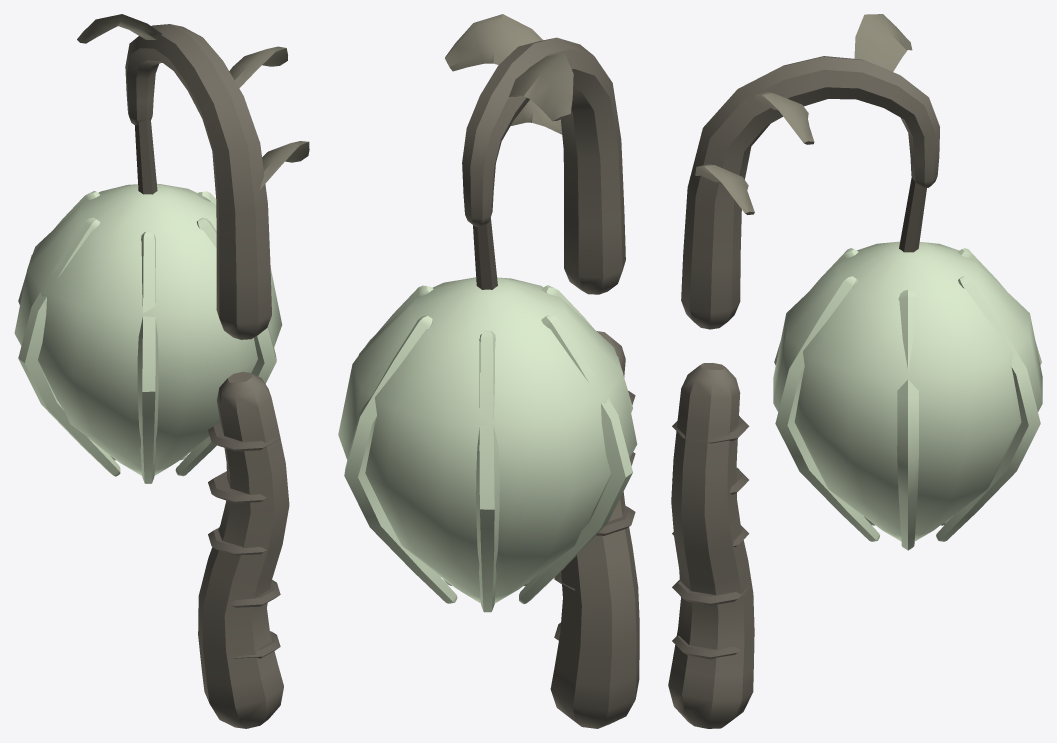
Rendered from false_lure.gltf.
3 views of the same model, side by side, from view 1: azimuth 30°, elevation 25°; view 2: azimuth 150°, elevation 25°; view 3: azimuth 270°, elevation 25° (orthographic). The views are drawn at different scales.
Parts seen in each view (by area): view 1: Bulb, Stalk, Hood; view 2: Bulb, Hood, Stalk; view 3: Bulb, Hood, Stalk.
Part boxes in pixels (box(x1,y1,x2,y2)): Bulb: box(14, 182, 282, 483); Stalk: box(198, 371, 289, 728); Hood: box(77, 14, 309, 339); Bulb: box(338, 277, 637, 612); Hood: box(445, 14, 625, 294); Stalk: box(550, 331, 639, 728); Bulb: box(773, 241, 1042, 550); Hood: box(681, 14, 939, 329); Stalk: box(668, 363, 754, 728).
Size of the model in its own units: 0.923 by 2.3 by 1.14.
